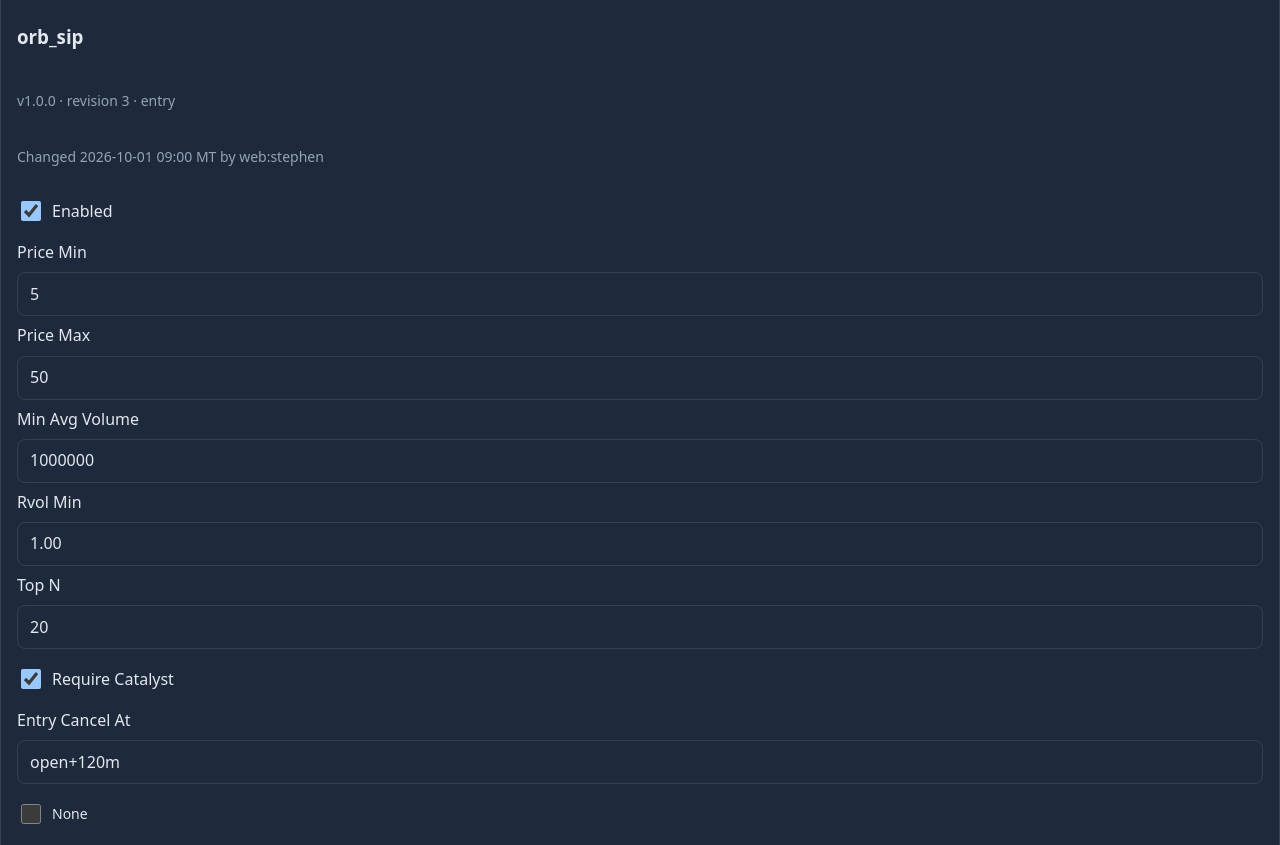
StrategyForms (acceptance test 4) › changing top_n and saving sends only that param
This screenshot has width=1280, height=845.
Replace the text in the number field labelled "Top N" with "10" at coordinates (640, 627), box top-left (17, 605), bottom-right (1263, 649)
(page scrolled)
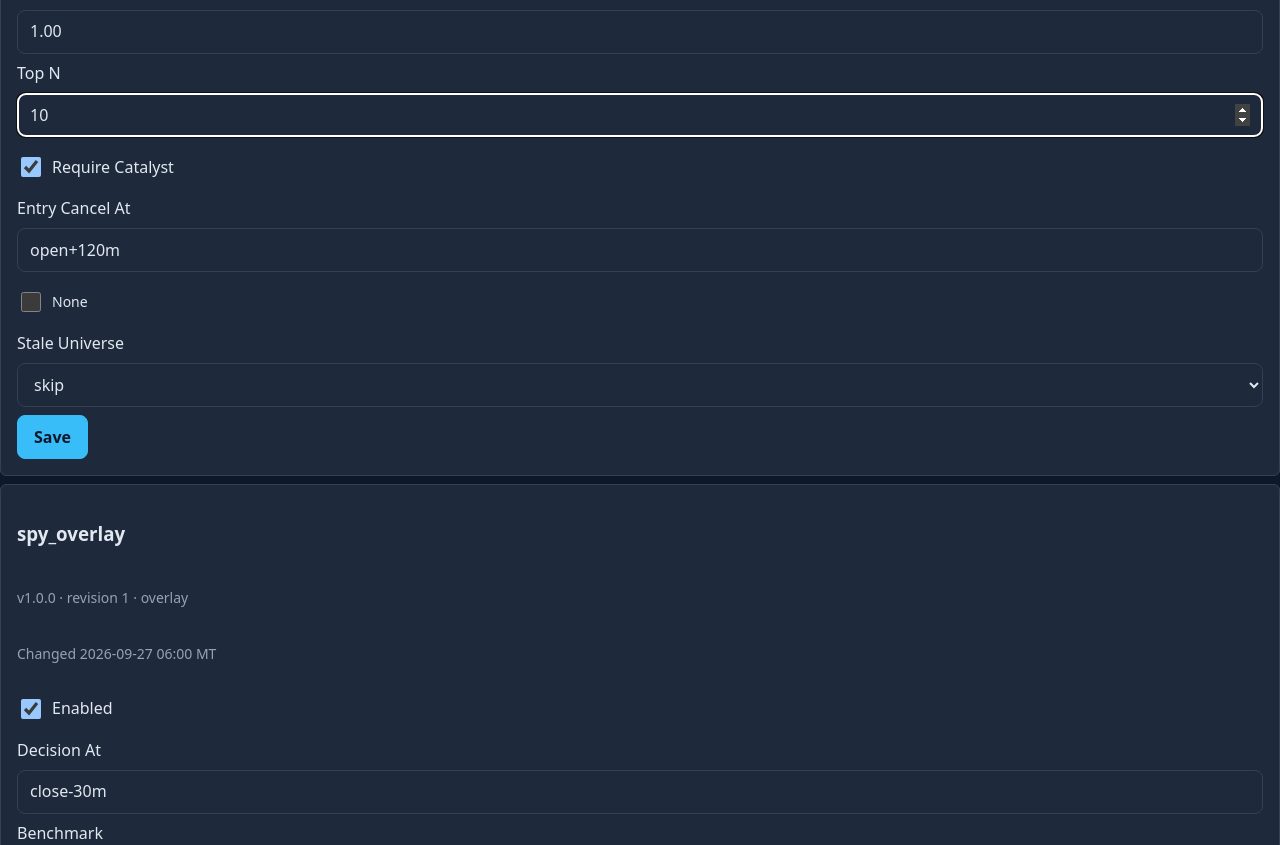
Click the button "Save" at coordinates (52, 438), box top-left (17, 416), bottom-right (88, 460)
(page scrolled)
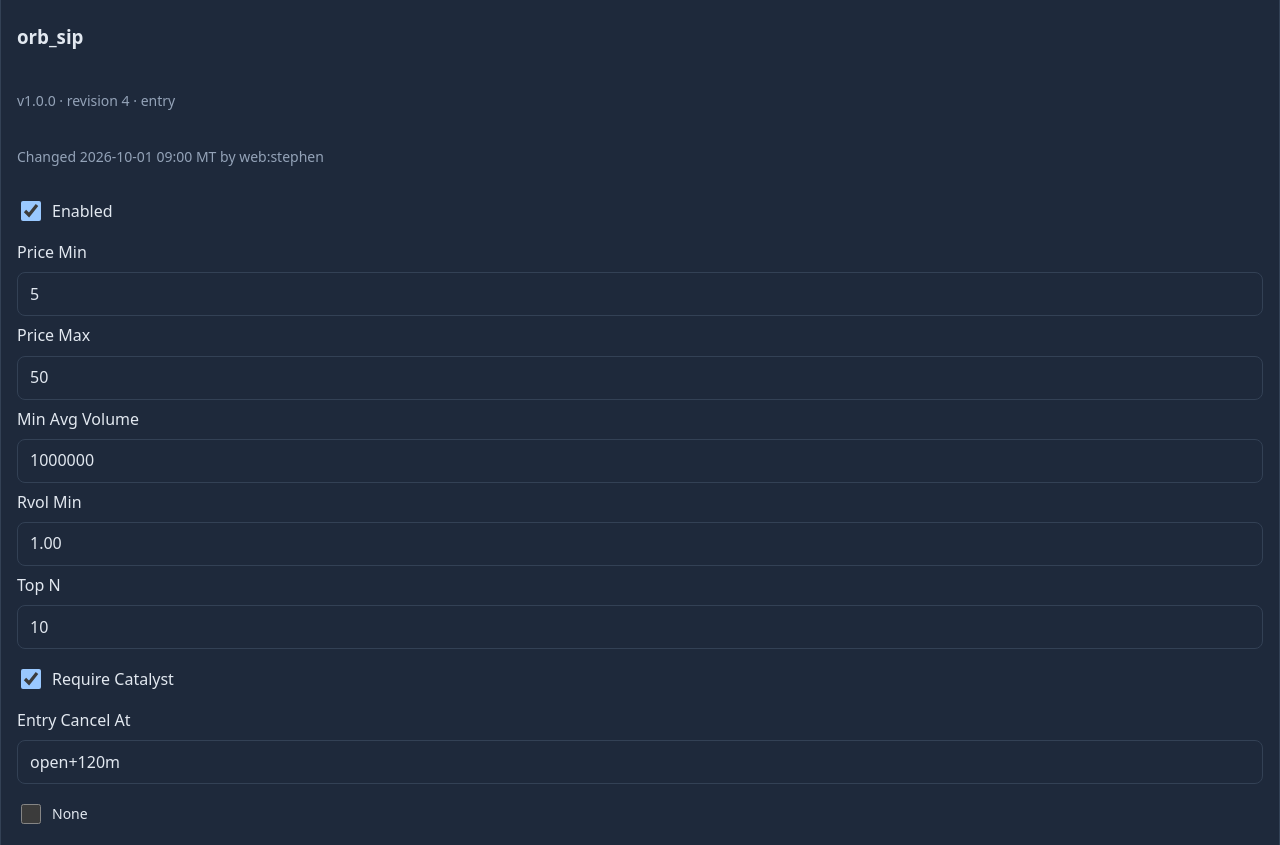
Expected: the text "v1.0.0 · revision 4 · entry" is shown, top-left (17, 91), bottom-right (175, 110)
